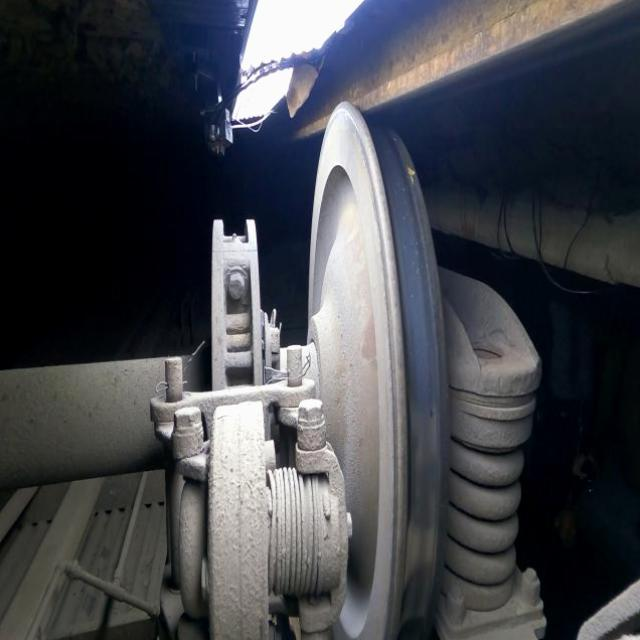Cracks-Scratches: (406, 164, 415, 187)
Shelling: (399, 407, 442, 632)
Wheel: (308, 101, 449, 640)
